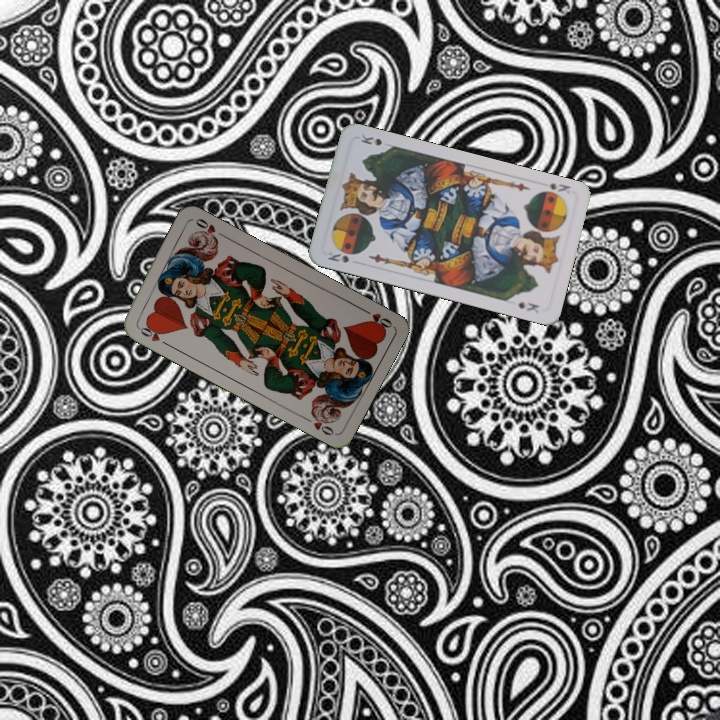HO: (357, 304, 395, 333), (133, 320, 171, 348)
SK: (324, 247, 352, 266), (546, 179, 573, 196)
